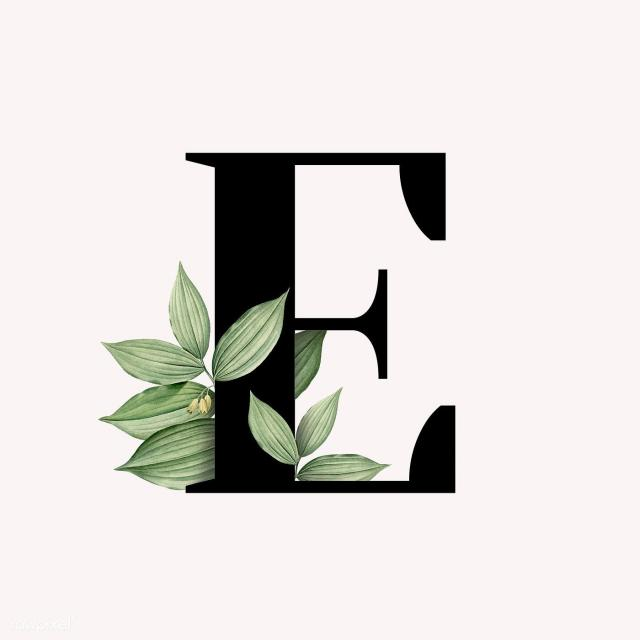E: (179, 92, 512, 544)
